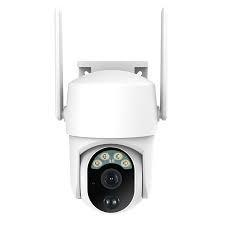maru: (58, 67, 155, 218)
